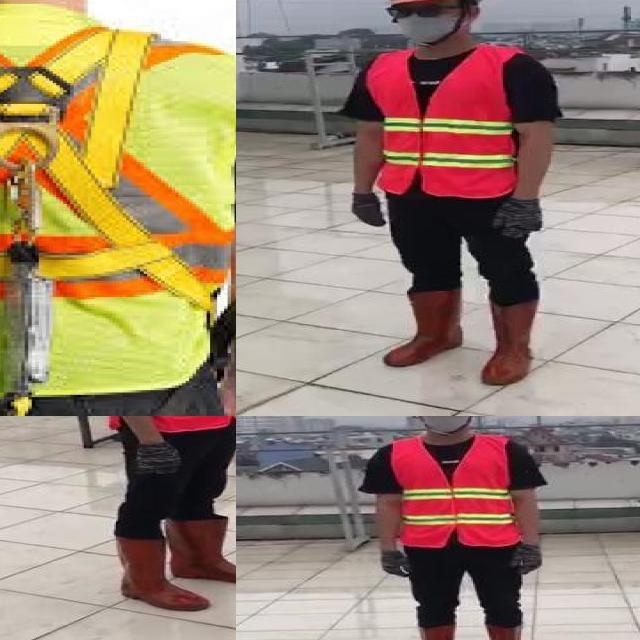Harness: (0, 26, 231, 312)
boots: (102, 531, 212, 614), (384, 284, 467, 369), (165, 512, 236, 588), (478, 301, 539, 387), (483, 626, 537, 640), (412, 627, 457, 640)
face_mask: (386, 1, 468, 47), (413, 416, 472, 432)
glasses: (384, 0, 451, 23)
hand_glove: (488, 197, 546, 238), (130, 443, 186, 477), (352, 194, 389, 228), (512, 545, 544, 576), (379, 553, 411, 577)
person: (335, 0, 568, 393), (357, 416, 560, 640), (71, 416, 236, 613)
vest: (364, 46, 521, 198), (391, 436, 519, 549)
